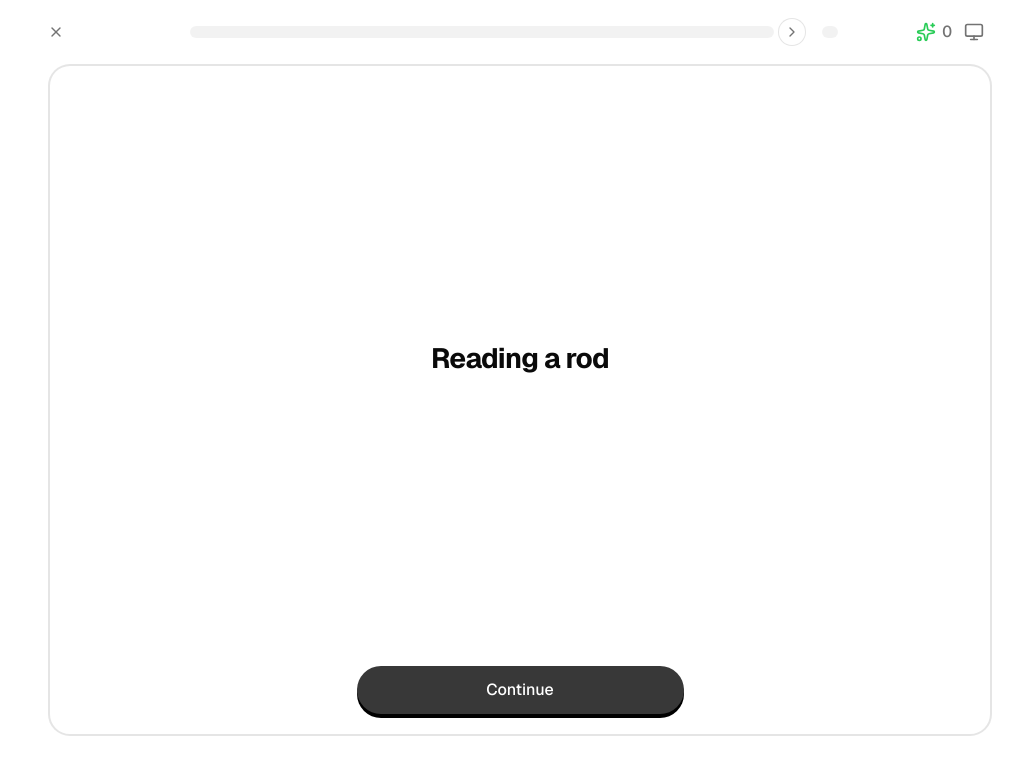
Test: LessonPlayer › holds the check button until an answer is picked
Click the button "Continue".
click(520, 690)  # box [356,666,684,714]
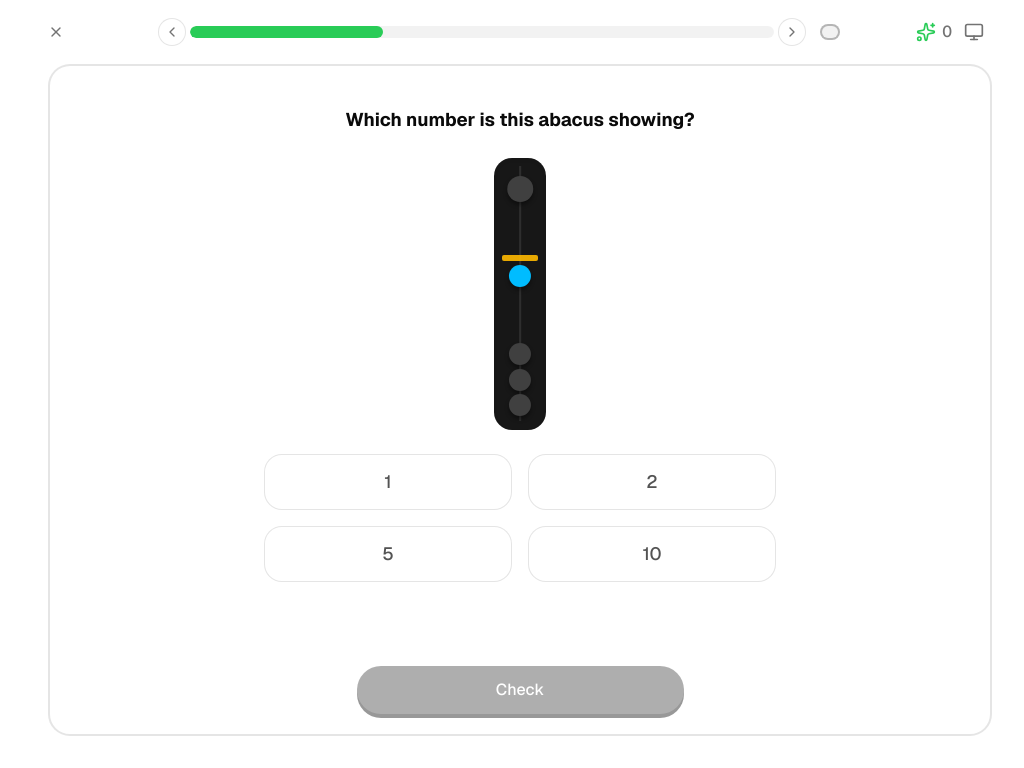
Now the button "Check" is disabled, box [356,666,684,714]
